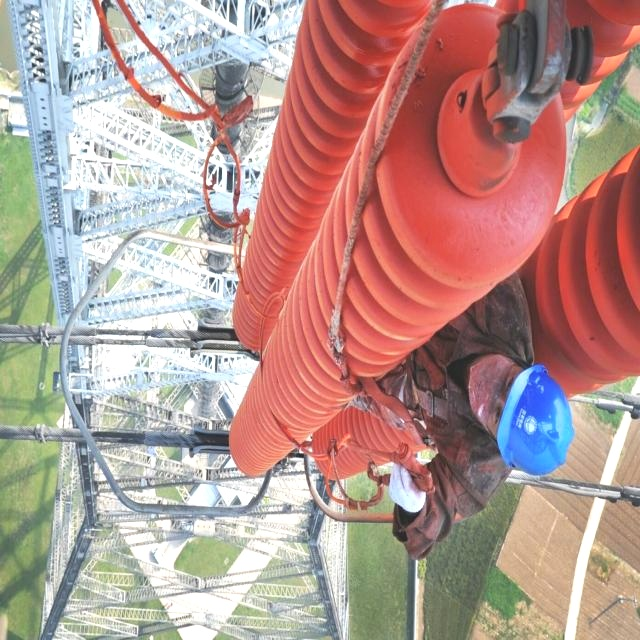Con_Casco: (469, 351, 575, 475)
